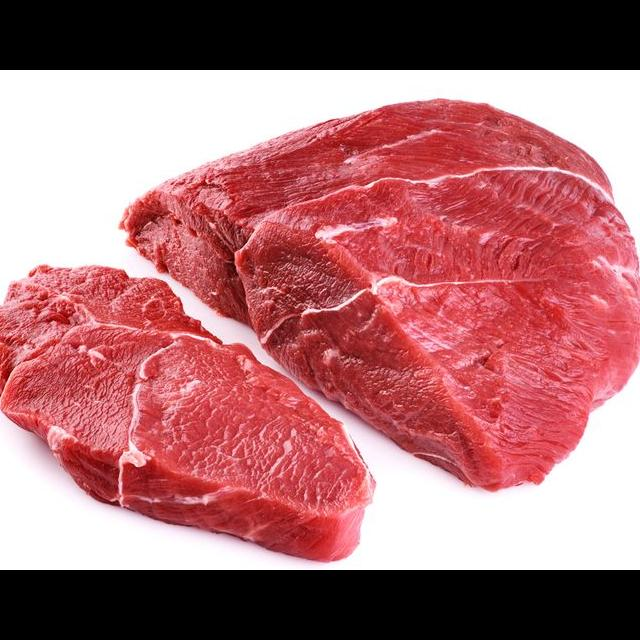beef: (112, 91, 640, 499), (0, 248, 371, 565)
